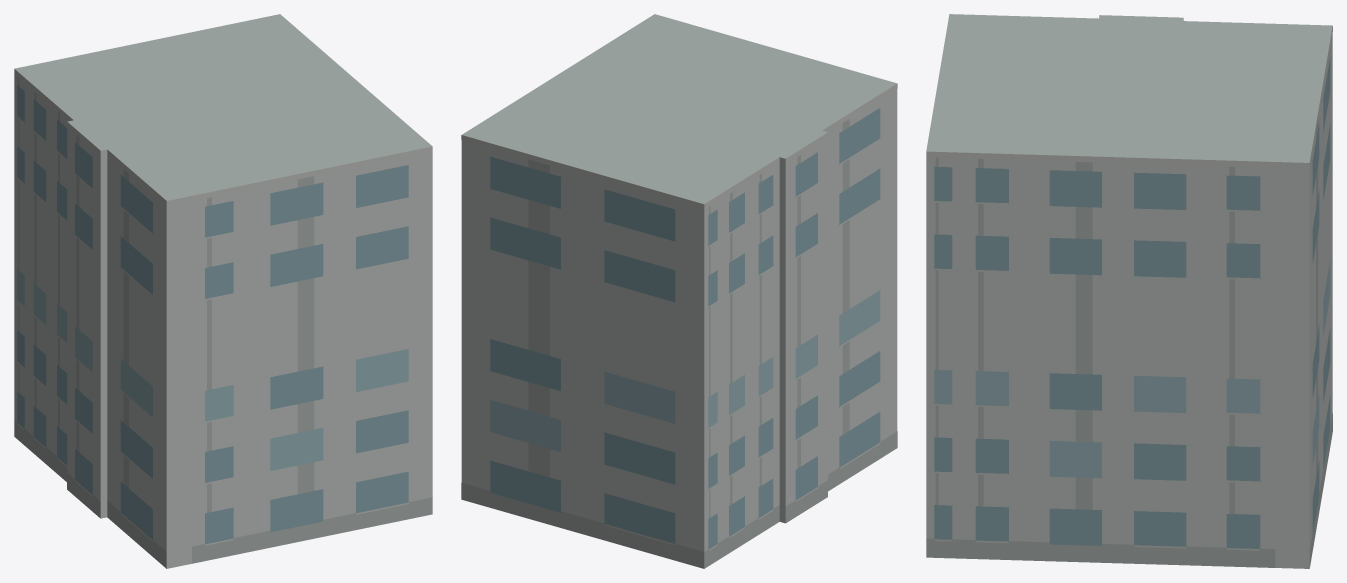
File: survey-upis-32877743.glb
3 views of the same model, side by side, from view 1: azimuth 30°, elevation 25°; view 2: azimuth 150°, elevation 25°; view 3: azimuth 270°, elevation 25° (orthographic). The views are drawn at different scales.
Visible parts, largest first — view 1: survey-upis-32877743.tmp; view 2: survey-upis-32877743.tmp; view 3: survey-upis-32877743.tmp.
Boxes of the visible parts, <box> form: survey-upis-32877743.tmp: <box>14,14,432,568</box>; survey-upis-32877743.tmp: <box>461,14,897,568</box>; survey-upis-32877743.tmp: <box>926,14,1332,568</box>.
Bounding box in the file's own units: 13.06 × 16.6 × 15.08.
